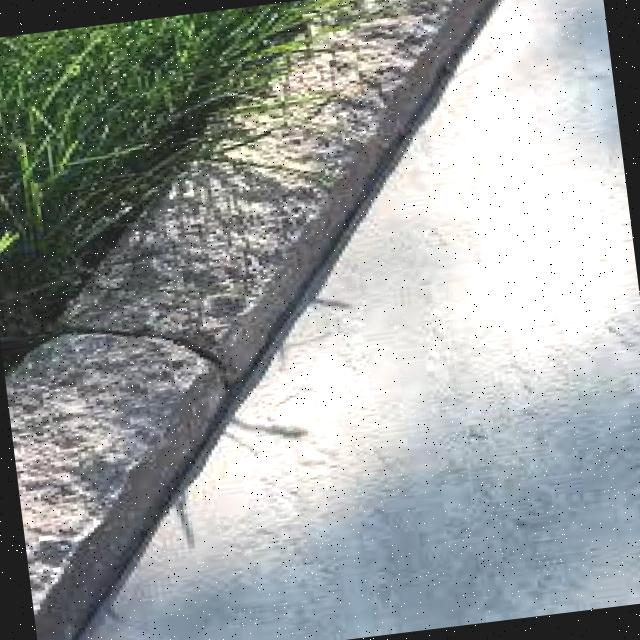curb: (56, 1, 502, 389), (7, 335, 245, 640)
